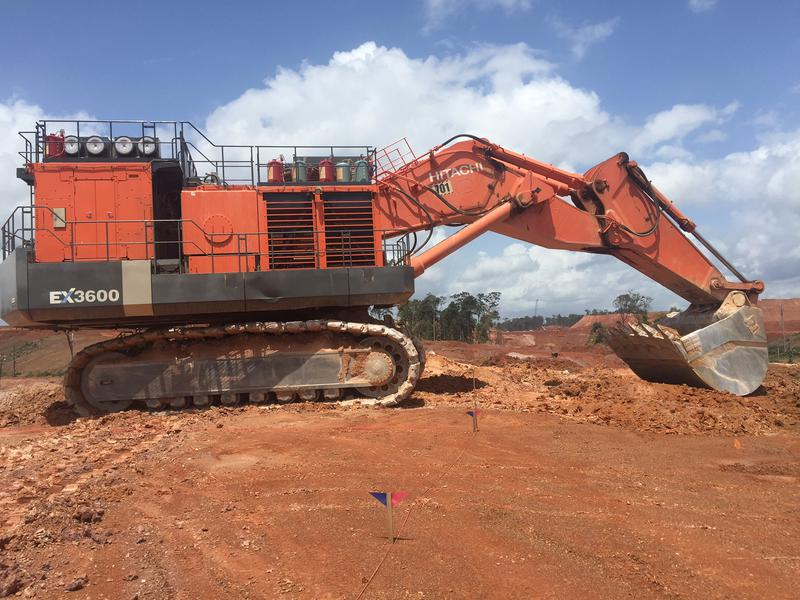shovel: (8, 113, 779, 418)
